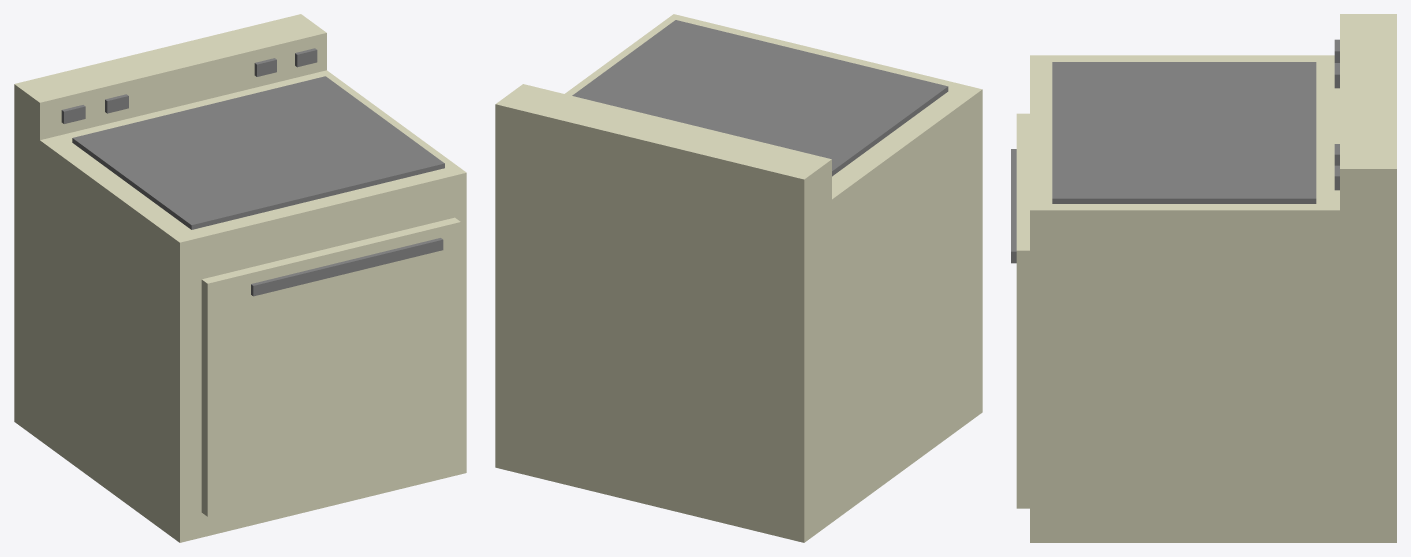
The model's file is stove.fbx.
3 renders of one model, left to right at view 1: azimuth 30°, elevation 25°; view 2: azimuth 150°, elevation 25°; view 3: azimuth 270°, elevation 25°, orthographic. The views are drawn at different scales.
Parts seen in each view (by area): view 1: Cube; view 2: Cube; view 3: Cube.
Boxes of the visible parts, <box> form: Cube: <box>14,14,466,542</box>; Cube: <box>495,14,982,542</box>; Cube: <box>1011,14,1396,542</box>.
Bounding box in the file's own units: 200 × 225 × 210.
